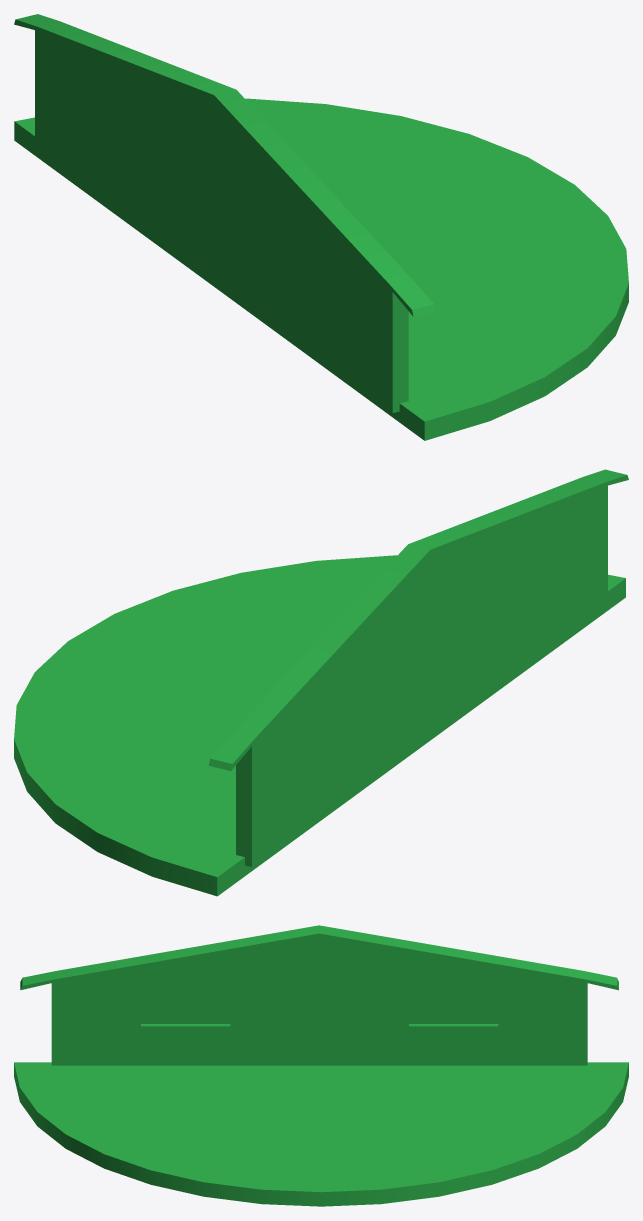
The model's file is Stage.glb.
The picture shows the model from 3 angles, top to bottom: view 1: azimuth 30°, elevation 25°; view 2: azimuth 150°, elevation 25°; view 3: azimuth 270°, elevation 25°; orthographic projection. The views are drawn at different scales.
Parts seen in each view (by area): view 1: Circle.001; view 2: Circle.001; view 3: Circle.001.
Part boxes in pixels (<box>): Circle.001: <box>14,14,628,440</box>; Circle.001: <box>14,469,628,896</box>; Circle.001: <box>14,925,628,1206</box>.
Bounding box in the file's own units: 9.44 × 4.94 × 18.5.
